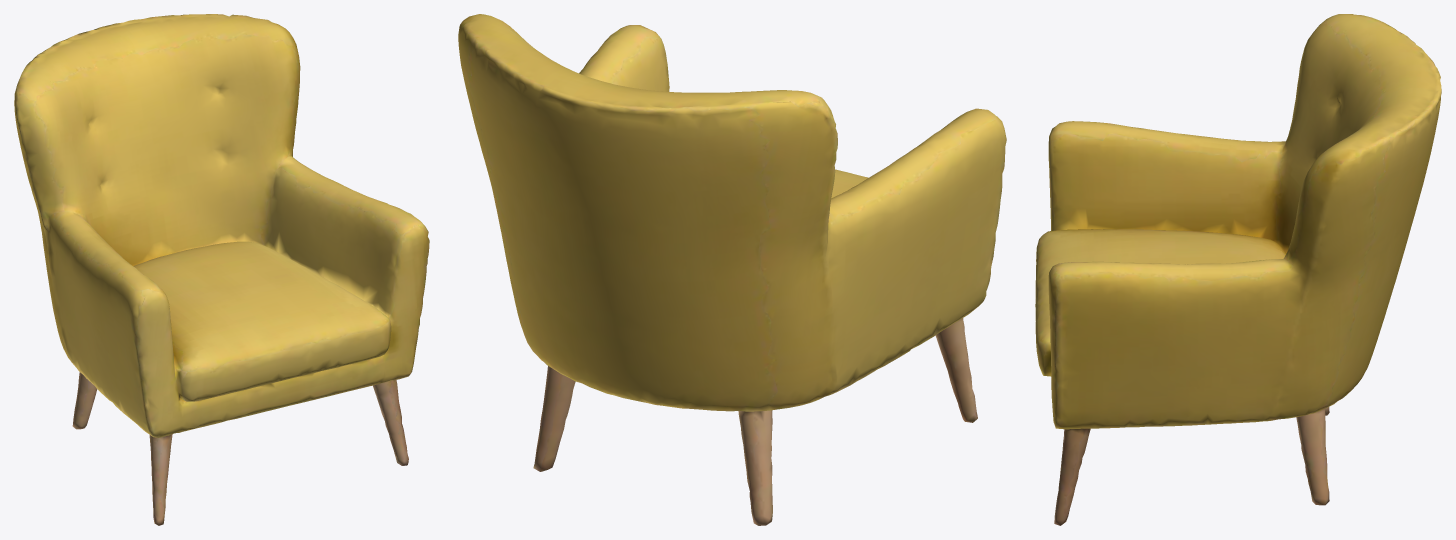
Rendered from 08_armchair.glb.
The picture shows the model from 3 angles, left to right: view 1: azimuth 30°, elevation 25°; view 2: azimuth 150°, elevation 25°; view 3: azimuth 270°, elevation 25°; orthographic projection. The views are drawn at different scales.
Parts seen in each view (by area): view 1: geometry_0; view 2: geometry_0; view 3: geometry_0.
Boxes of the visible parts, bbox=[...] form: geometry_0: bbox=[14, 14, 429, 525]; geometry_0: bbox=[458, 14, 1006, 525]; geometry_0: bbox=[1035, 14, 1441, 525].
Bounding box in the file's own units: 1.7 × 1.9 × 1.84.
1 material, 1 textured.
